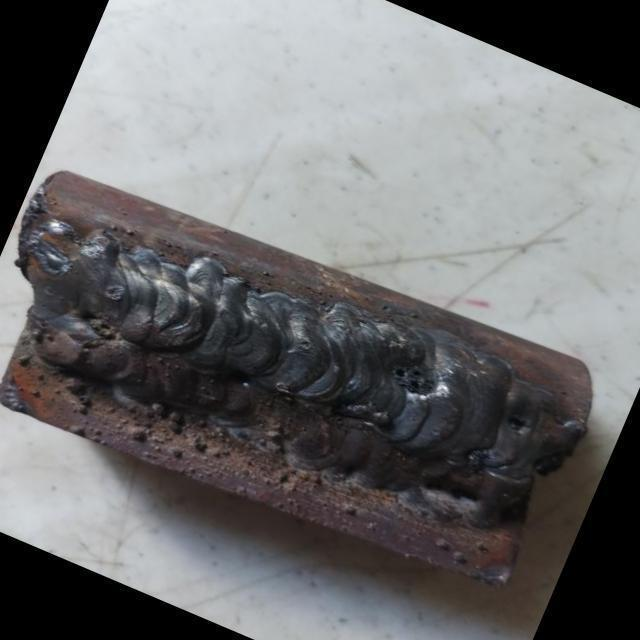defect: (385, 355, 442, 400), (79, 312, 119, 340), (459, 446, 495, 472), (498, 410, 531, 435), (103, 283, 127, 304), (297, 339, 317, 357)
